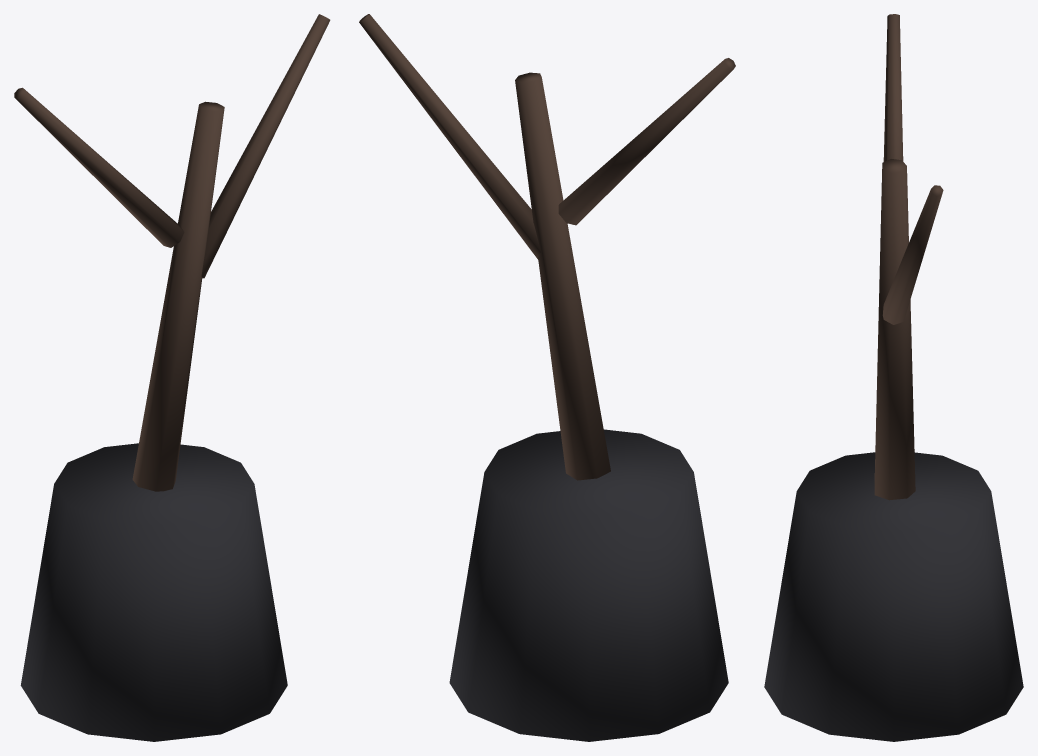
The model's file is plant_small.glb.
3 views of the same model, side by side, from view 1: azimuth 30°, elevation 25°; view 2: azimuth 150°, elevation 25°; view 3: azimuth 270°, elevation 25° (orthographic). The views are drawn at different scales.
Parts seen in each view (by area): view 1: GD_plant_small; view 2: GD_plant_small; view 3: GD_plant_small.
Part boxes in pixels (x1,y1,x2,y2): GD_plant_small: (14,14,330,741); GD_plant_small: (359,14,735,741); GD_plant_small: (764,14,1023,741).
Bounding box in the file's own units: 0.1745 × 0.3119 × 0.12.
